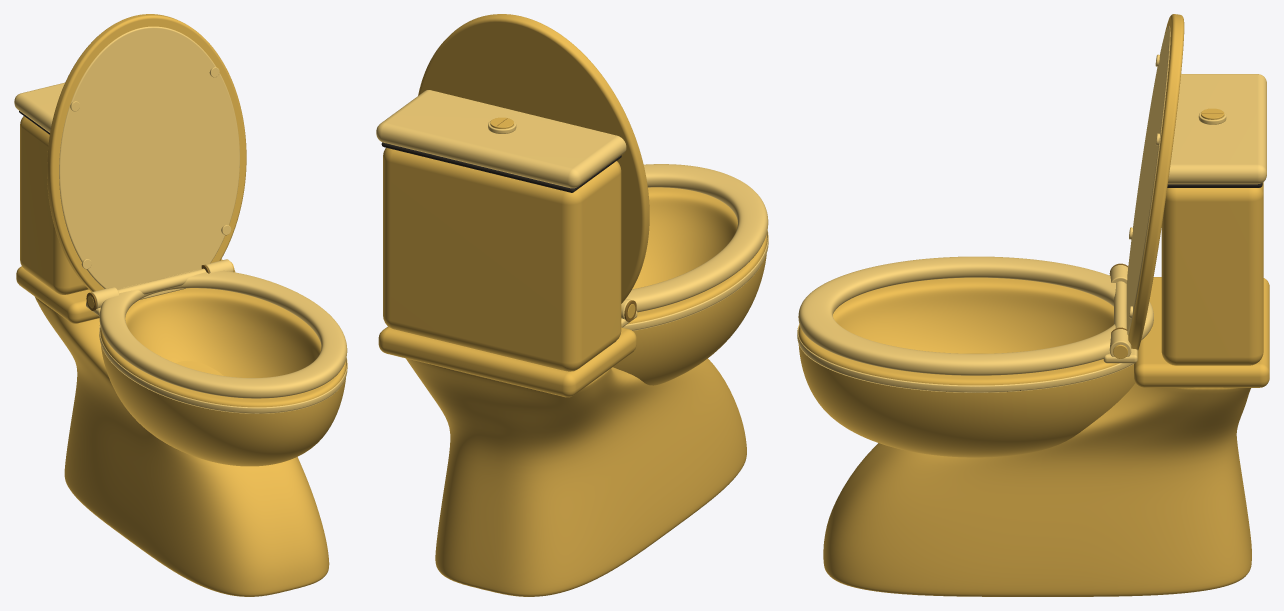
File: golden_toilet.glb
3 views of the same model, side by side, from view 1: azimuth 30°, elevation 25°; view 2: azimuth 150°, elevation 25°; view 3: azimuth 270°, elevation 25° (orthographic). The views are drawn at different scales.
Parts seen in each view (by area): view 1: Lid Inner Panel, Continuous Pedestal and Rear Skirt, Hollow Bowl, Seat Ring, Solid Lid, Tank Body, Bowl Rim Accent, Rear Deck, Tank Cap, Central Hinge Axle; view 2: Continuous Pedestal and Rear Skirt, Tank Body, Solid Lid, Hollow Bowl, Tank Cap, Seat Ring, Rear Deck, Bowl Rim Accent, Tank Lid Shadow Seam; view 3: Continuous Pedestal and Rear Skirt, Hollow Bowl, Tank Body, Seat Ring, Tank Cap, Rear Deck, Solid Lid, Lid Inner Panel, Bowl Rim Accent.
Part boxes in pixels (left/top/right/bottom): Lid Inner Panel: left=59, top=26, right=239, bottom=299; Continuous Pedestal and Rear Skirt: left=35, top=297, right=329, bottom=596; Hollow Bowl: left=100, top=288, right=346, bottom=466; Seat Ring: left=99, top=269, right=347, bottom=398; Solid Lid: left=47, top=14, right=246, bottom=291; Tank Body: left=20, top=116, right=88, bottom=294; Bowl Rim Accent: left=99, top=325, right=347, bottom=413; Rear Deck: left=16, top=259, right=235, bottom=323; Tank Cap: left=14, top=82, right=64, bottom=132; Central Hinge Axle: left=117, top=268, right=206, bottom=294; Continuous Pedestal and Rear Skirt: left=406, top=358, right=746, bottom=596; Tank Body: left=383, top=147, right=621, bottom=371; Solid Lid: left=418, top=14, right=649, bottom=303; Hollow Bowl: left=613, top=187, right=767, bottom=385; Tank Cap: left=376, top=90, right=626, bottom=188; Seat Ring: left=626, top=164, right=768, bottom=312; Rear Deck: left=378, top=326, right=636, bottom=397; Bowl Rim Accent: left=623, top=230, right=768, bottom=330; Tank Lid Shadow Seam: left=381, top=142, right=621, bottom=192; Continuous Pedestal and Rear Skirt: left=823, top=383, right=1251, bottom=596; Hollow Bowl: left=798, top=277, right=1135, bottom=457; Tank Body: left=1161, top=182, right=1263, bottom=365; Seat Ring: left=798, top=256, right=1153, bottom=375; Tank Cap: left=1168, top=74, right=1266, bottom=184; Rear Deck: left=1134, top=277, right=1269, bottom=387; Solid Lid: left=1128, top=14, right=1184, bottom=350; Lid Inner Panel: left=1126, top=26, right=1170, bottom=334; Bowl Rim Accent: left=797, top=324, right=1133, bottom=392.
Bounding box in the file's own units: 0.434 × 0.9883 × 0.7858.
